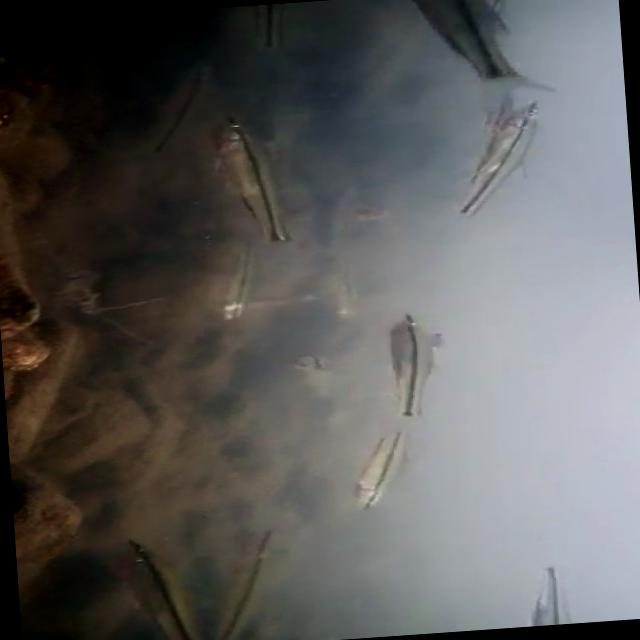Cakil Baligi: (442, 98, 560, 221), (207, 108, 300, 248), (378, 308, 452, 422)
